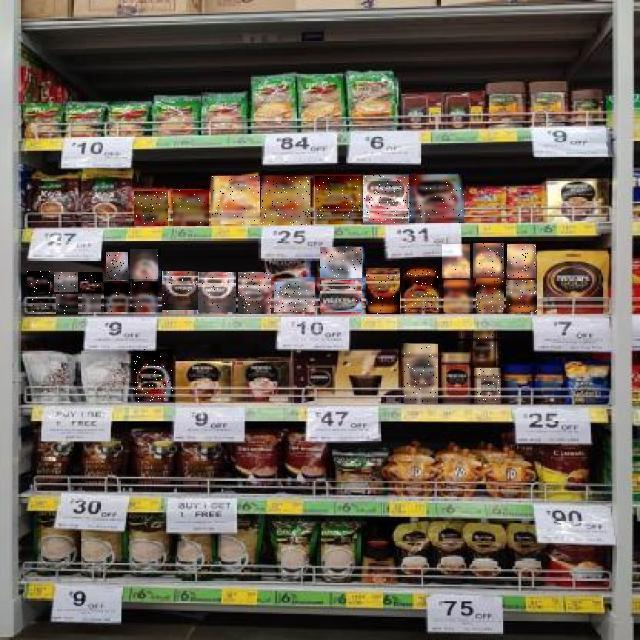Coffee: (411, 175, 464, 223), (211, 176, 260, 224), (261, 177, 310, 225), (364, 175, 412, 223), (315, 176, 362, 224), (133, 349, 173, 402), (404, 344, 438, 404), (366, 268, 400, 314), (198, 273, 236, 313), (162, 272, 198, 314), (405, 269, 438, 313), (238, 272, 271, 314), (320, 280, 362, 312), (320, 247, 362, 278), (173, 191, 209, 227), (274, 282, 315, 312), (134, 191, 168, 226), (473, 244, 504, 280), (506, 280, 537, 312), (507, 244, 536, 278), (442, 245, 470, 279), (444, 280, 473, 312), (475, 368, 501, 403), (476, 280, 504, 312), (130, 249, 158, 279), (473, 331, 496, 366), (133, 282, 159, 312), (104, 283, 130, 312), (106, 252, 128, 280), (76, 272, 102, 293), (27, 272, 50, 294), (54, 273, 78, 293), (56, 294, 78, 314), (28, 294, 52, 312), (82, 294, 101, 312)
